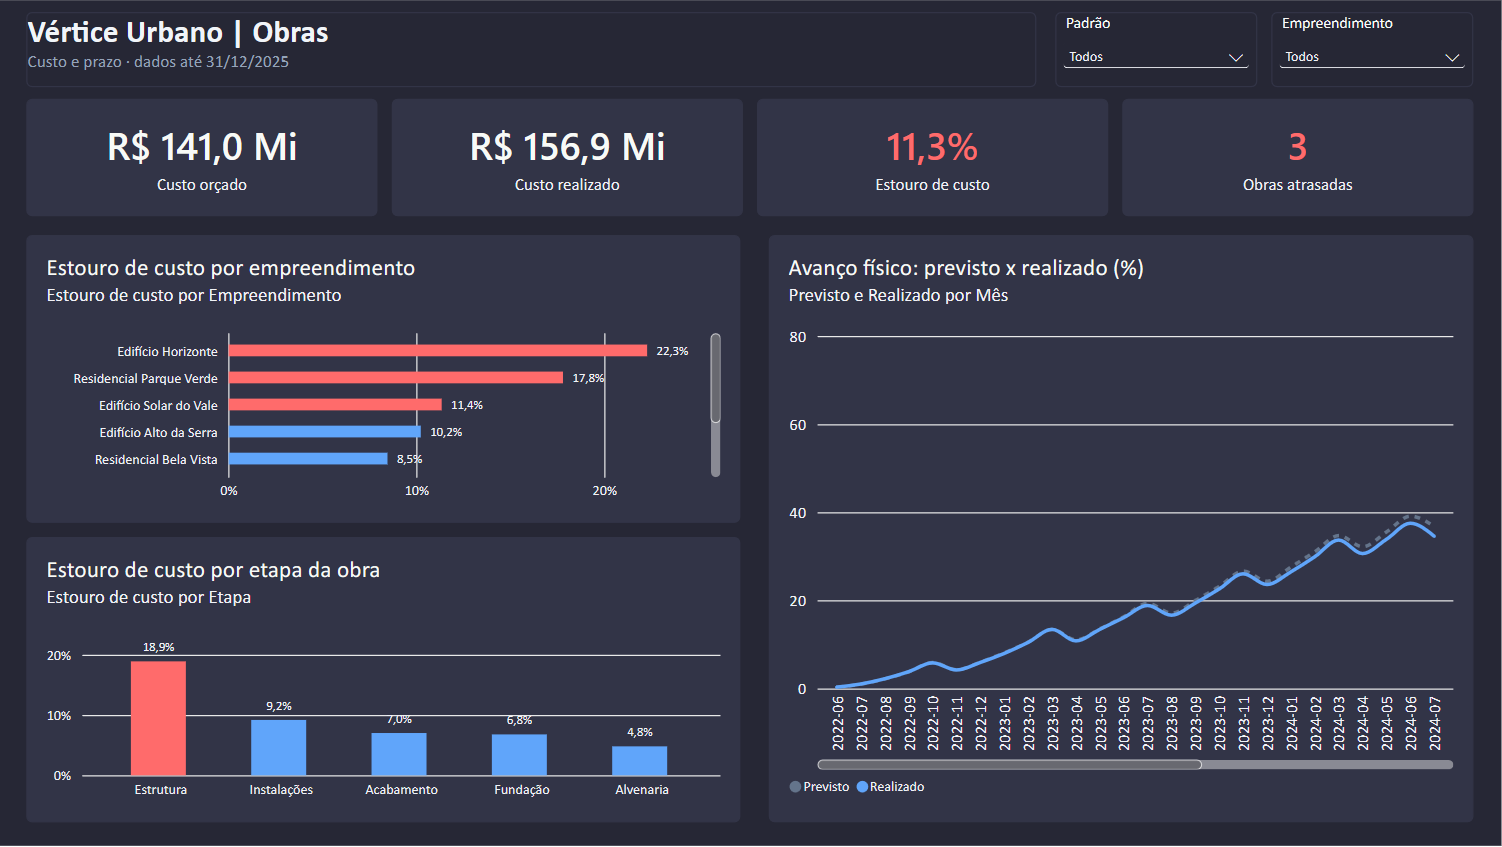

The dashboard page shown, as its layout file describes it:
{"tool":"powerbi","page":{"name":"Obras","canvas":[1280,720],"ordinal":2},"visuals":[{"type":"textbox","box":[24,10,860,64],"z":0},{"type":"slicer","fields":{"Values":["developments.standard"]},"box":[900,10,172,64],"z":1000},{"type":"slicer","fields":{"Values":["developments.development_name"]},"box":[1084,10,172,64],"z":2000},{"type":"card","fields":{"Values":["_measures.Budgeted Cost"]},"box":[24,84,299,100],"z":3000},{"type":"card","fields":{"Values":["_measures.Actual Cost"]},"box":[335,84,299,100],"z":4000},{"type":"card","fields":{"Values":["_measures.Cost Overrun %"]},"box":[646,84,299,100],"z":5000},{"type":"card","fields":{"Values":["_measures.Delayed Developments"]},"box":[957,84,299,100],"z":6000},{"type":"clusteredBarChart","title":"Estouro de custo por empreendimento","fields":{"Category":["developments.development_name"],"Y":["_measures.Cost Overrun %"]},"box":[24,200,608,245],"z":7000},{"type":"clusteredColumnChart","title":"Estouro de custo por etapa da obra","fields":{"Category":["construction_costs.stage"],"Y":["_measures.Cost Overrun %"]},"box":[24,457,608,243],"z":8000},{"type":"lineChart","title":"Avanço físico: previsto x realizado (%)","fields":{"Category":["calendar.Year Month"],"SmallMultiple":["developments.development_name"],"Y":["_measures.Planned Progress","_measures.Actual Progress"]},"box":[656,200,600,500],"z":9000}]}

Visuals, with their boxes in screenshot pixels (x1, y1, x2, y2), scaled from the page's 1280x720 canvas onto the 1502x847 screenshot:
textbox: Rect(28, 12, 1037, 87)
slicer - developments.standard: Rect(1056, 12, 1258, 87)
slicer - developments.development_name: Rect(1272, 12, 1474, 87)
card - _measures.Budgeted Cost: Rect(28, 99, 379, 216)
card - _measures.Actual Cost: Rect(393, 99, 744, 216)
card - _measures.Cost Overrun %: Rect(758, 99, 1109, 216)
card - _measures.Delayed Developments: Rect(1123, 99, 1474, 216)
"Estouro de custo por empreendimento" clusteredBarChart: Rect(28, 235, 742, 523)
"Estouro de custo por etapa da obra" clusteredColumnChart: Rect(28, 538, 742, 823)
"Avanço físico: previsto x realizado (%)" lineChart: Rect(770, 235, 1474, 823)
